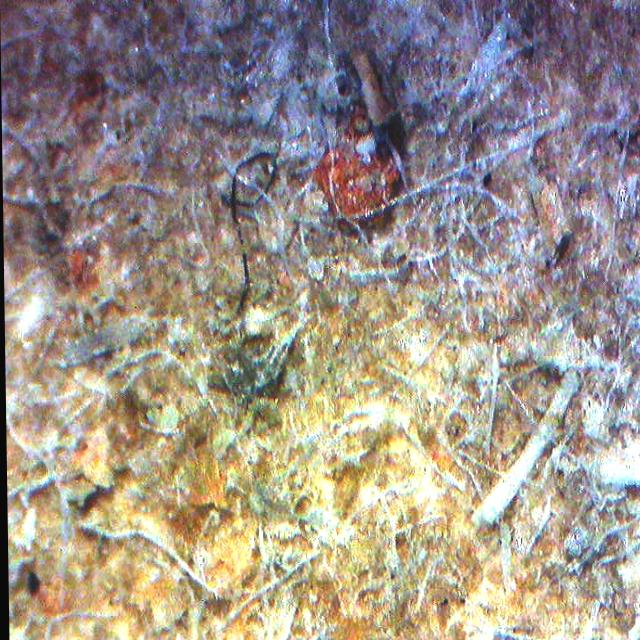microplastic: (230, 153, 275, 312)
